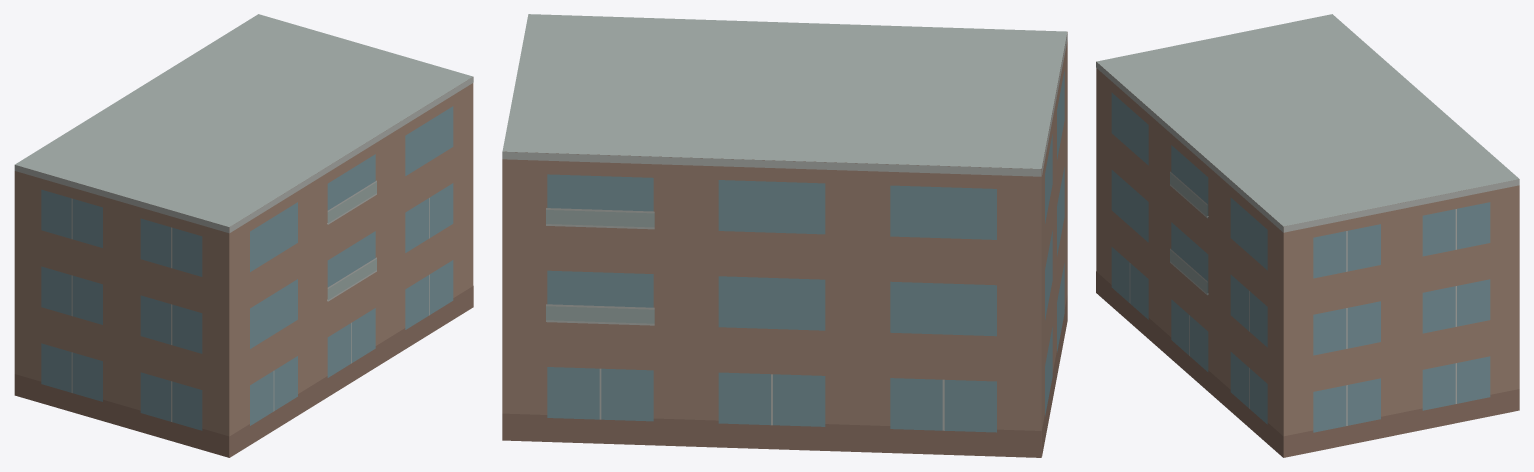
Rendered from survey-upis-32698019.glb.
3 views of the same model, side by side, from view 1: azimuth 30°, elevation 25°; view 2: azimuth 150°, elevation 25°; view 3: azimuth 270°, elevation 25° (orthographic). The views are drawn at different scales.
Parts seen in each view (by area): view 1: survey-upis-32698019.tmp; view 2: survey-upis-32698019.tmp; view 3: survey-upis-32698019.tmp.
Part boxes in pixels (box(x1,y1,x2,y2)): survey-upis-32698019.tmp: box(14, 14, 473, 457); survey-upis-32698019.tmp: box(502, 14, 1067, 457); survey-upis-32698019.tmp: box(1096, 14, 1519, 457).
Size of the model in its own units: 18.04 by 9.15 by 15.19.
